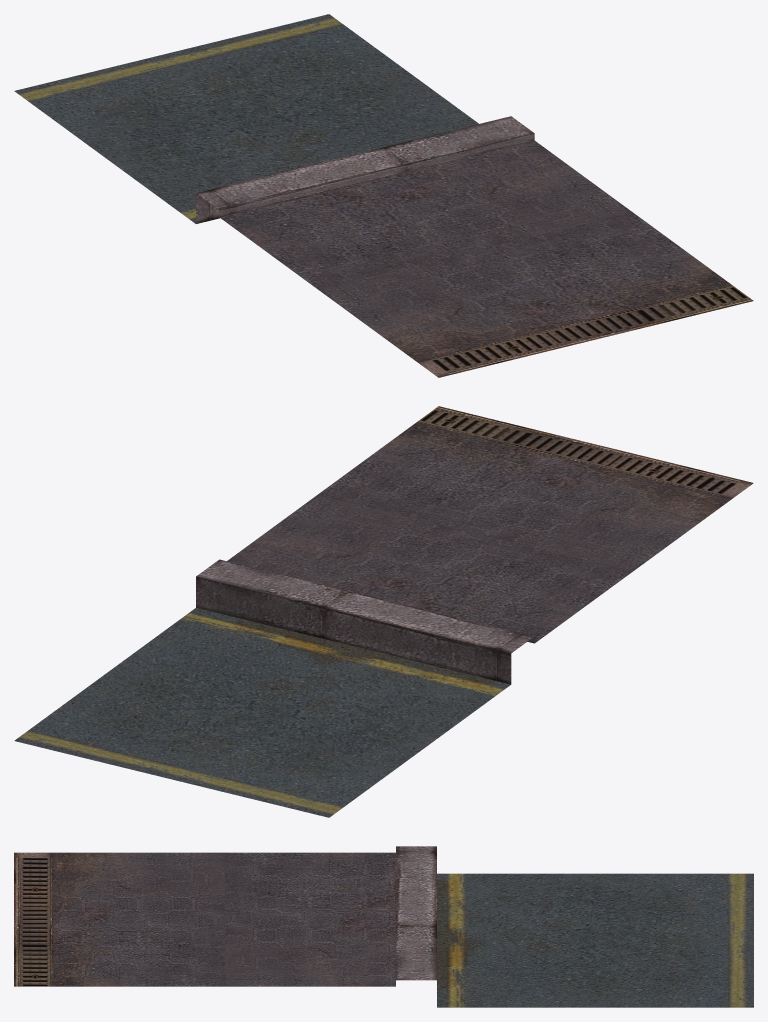
Rendered from Road1_Part_03.fbx.
3 views of the same model, one above another, from view 1: azimuth 30°, elevation 25°; view 2: azimuth 150°, elevation 25°; view 3: azimuth 270°, elevation 25° (orthographic). The views are drawn at different scales.
Visible parts, largest first — view 1: Road_Part_03; view 2: Road_Part_03; view 3: Road_Part_03.
Boxes of the visible parts, <box> form: Road_Part_03: <box>14,14,753,377</box>; Road_Part_03: <box>14,406,753,817</box>; Road_Part_03: <box>14,846,753,1007</box>.
Bounding box in the file's own units: 200 × 18.88 × 467.
